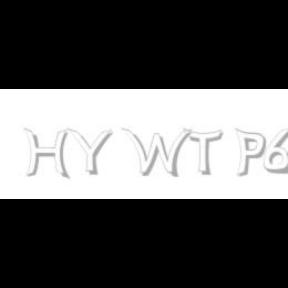H: (24, 128, 70, 180)
P: (234, 128, 266, 178)
T: (183, 128, 223, 176)
W: (120, 128, 192, 178)
Y: (67, 128, 113, 176)
